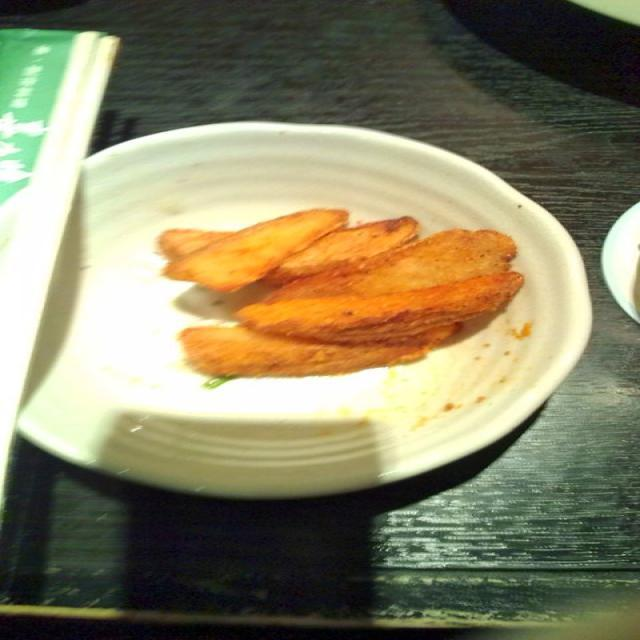French Fries: (146, 204, 528, 386)
